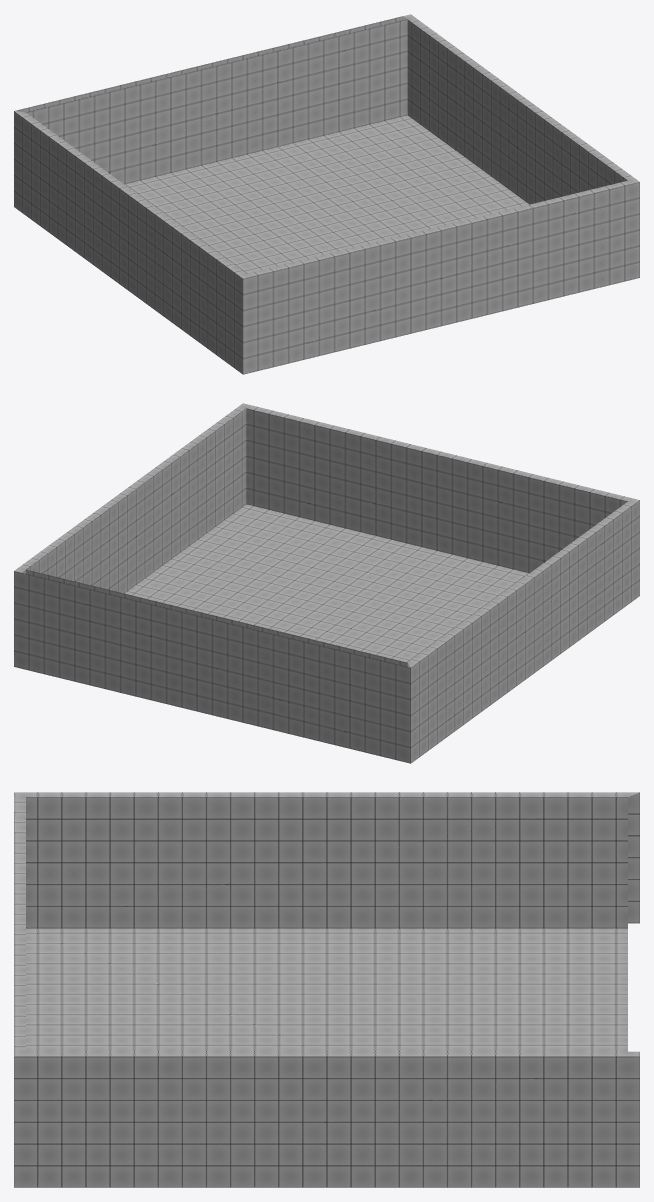
The model's file is Environment.FBX.
The picture shows the model from 3 angles, top to bottom: view 1: azimuth 30°, elevation 25°; view 2: azimuth 150°, elevation 25°; view 3: azimuth 270°, elevation 25°; orthographic projection. The views are drawn at different scales.
Parts seen in each view (by area): view 1: Environment; view 2: Environment; view 3: Environment.
Part boxes in pixels (x1,y1,x2,y2): Environment: (14,14,639,374); Environment: (14,403,639,763); Environment: (14,792,639,1187).
Bounding box in the file's own units: 5200 × 5200 × 1200.
Materials: 1 (1 with a texture image).
